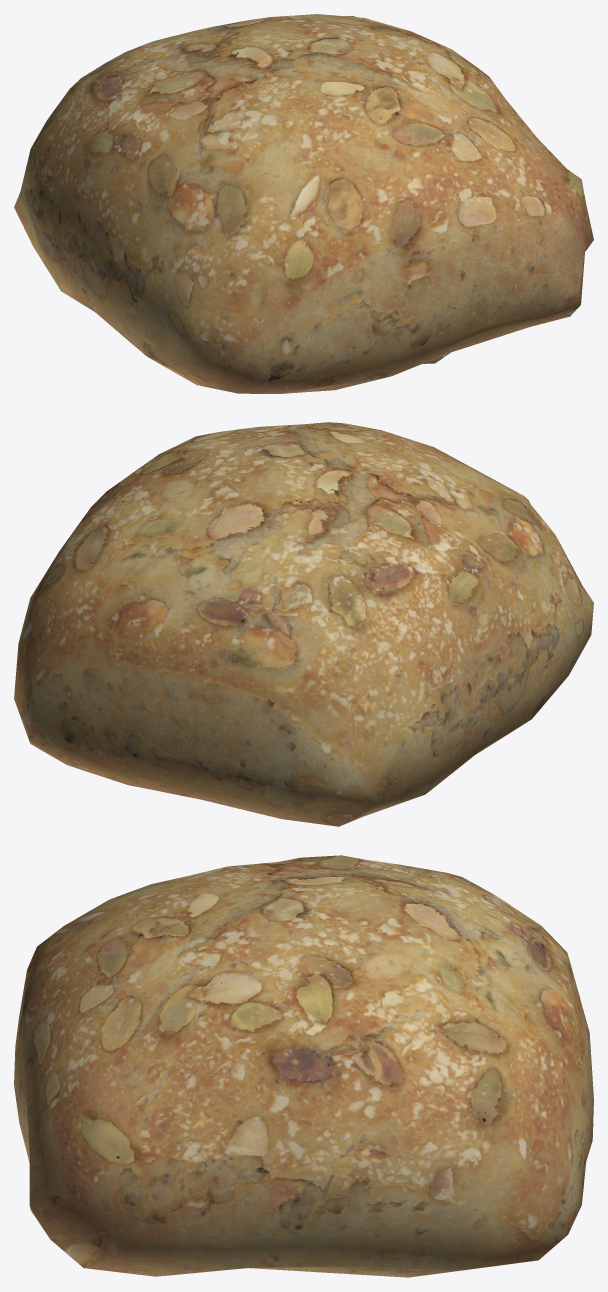
The model's file is 3DBread001_LQ-2K-JPG.obj.
3 renders of one model, top to bottom at view 1: azimuth 30°, elevation 25°; view 2: azimuth 150°, elevation 25°; view 3: azimuth 270°, elevation 25°, orthographic. The views are drawn at different scales.
Visible parts, largest first — view 1: 3DBread001_LQ-2K-JPG; view 2: 3DBread001_LQ-2K-JPG; view 3: 3DBread001_LQ-2K-JPG.
Part boxes in pixels (x1,y1,x2,y2): 3DBread001_LQ-2K-JPG: (14,14,593,393); 3DBread001_LQ-2K-JPG: (14,422,593,826); 3DBread001_LQ-2K-JPG: (14,855,593,1277).
Size of the model in its own units: 0.107 by 0.0663 by 0.1126.
1 material, 1 textured.
